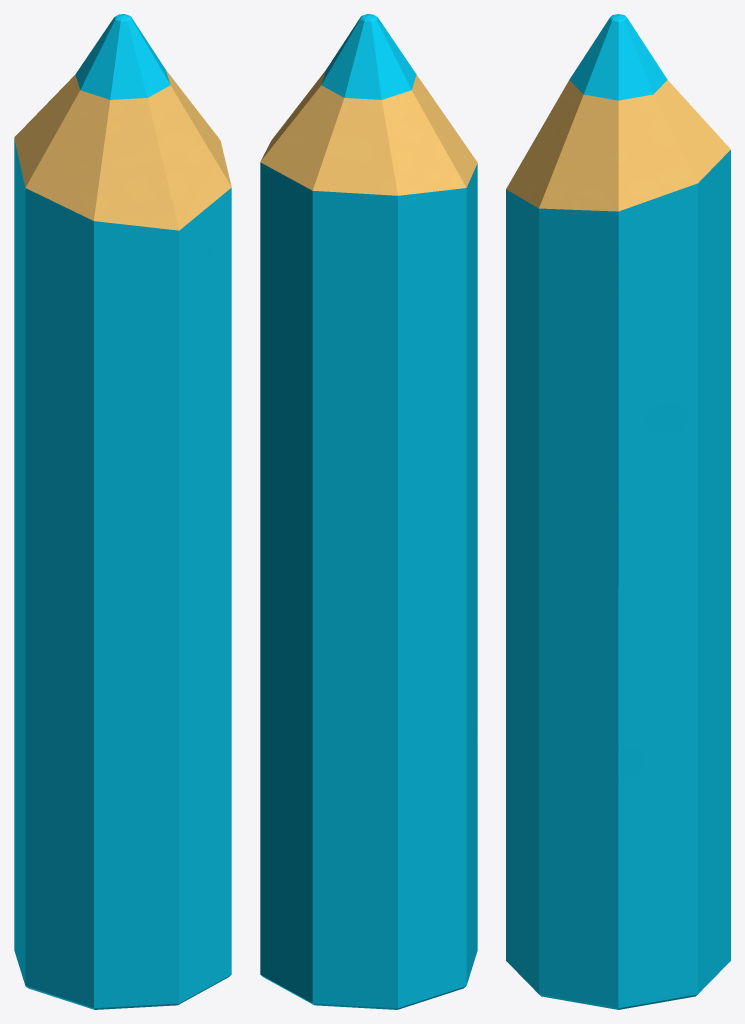
The model's file is Pen_1.fbx.
3 renders of one model, left to right at view 1: azimuth 30°, elevation 25°; view 2: azimuth 150°, elevation 25°; view 3: azimuth 270°, elevation 25°, orthographic.
Parts seen in each view (by area): view 1: Cylinder.001; view 2: Cylinder.001; view 3: Cylinder.001.
Part boxes in pixels (box(x1,y1,x2,y2)): Cylinder.001: box(14, 14, 231, 1009); Cylinder.001: box(260, 14, 477, 1009); Cylinder.001: box(506, 14, 730, 1009).
Size of the model in its own units: 129 by 599 by 129.
